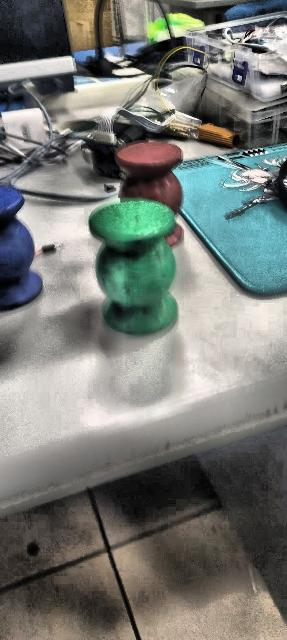blue: (1, 184, 43, 310)
green: (89, 197, 179, 336)
red: (114, 138, 194, 247)
